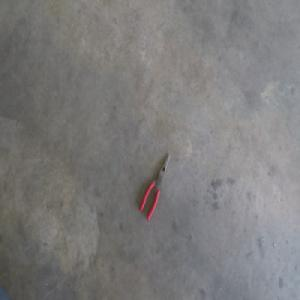Pliers: (139, 149, 170, 218)
